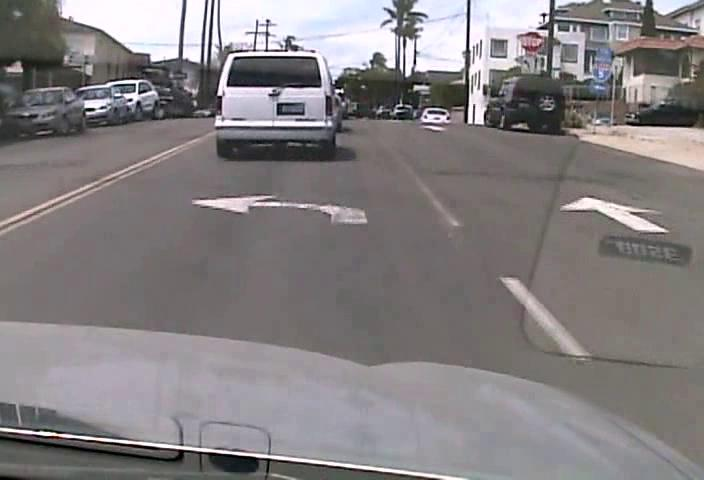stop: (519, 30, 543, 53)
